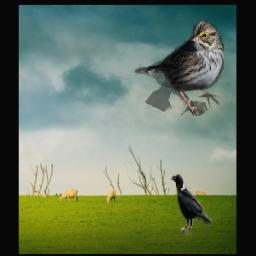Crow: (171, 172, 213, 236)
Sparrow: (135, 20, 225, 117)
